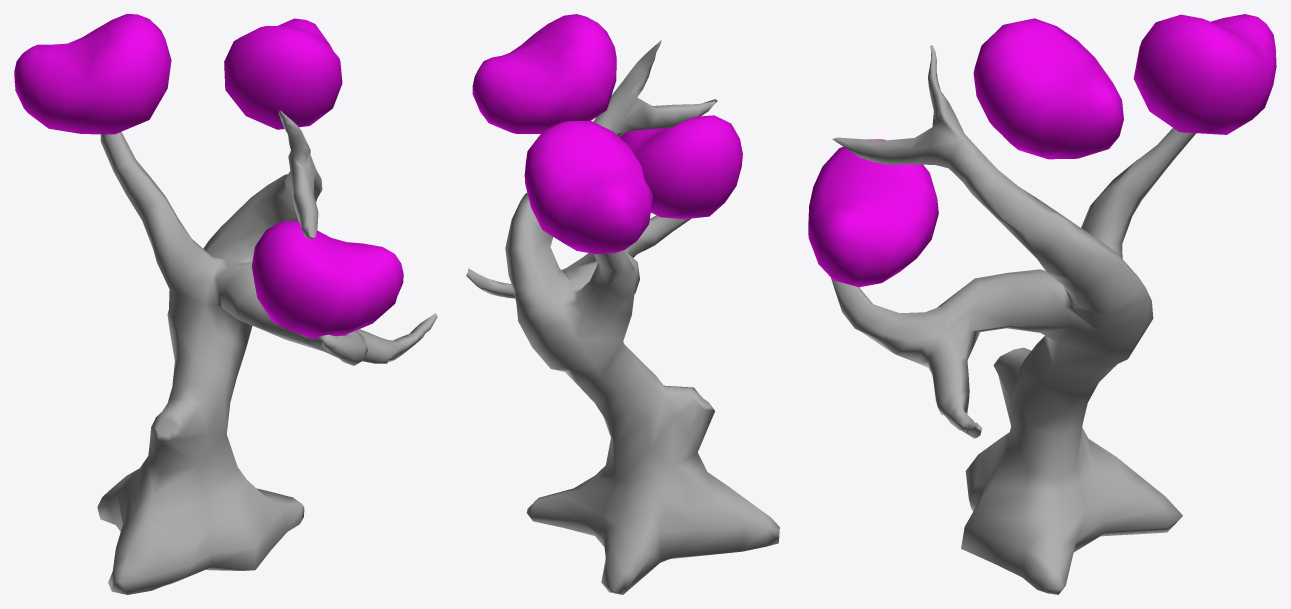
The model's file is lala.fbx.
3 views of the same model, side by side, from view 1: azimuth 30°, elevation 25°; view 2: azimuth 150°, elevation 25°; view 3: azimuth 270°, elevation 25° (orthographic). The views are drawn at different scales.
Parts seen in each view (by area): view 1: polySurface5; view 2: polySurface5; view 3: polySurface5.
Part boxes in pixels (left/top/right/bottom): polySurface5: left=14, top=14, right=437, bottom=594; polySurface5: left=466, top=14, right=779, bottom=594; polySurface5: left=808, top=14, right=1276, bottom=594.
Size of the model in its own units: 1043 by 1600 by 1205.
